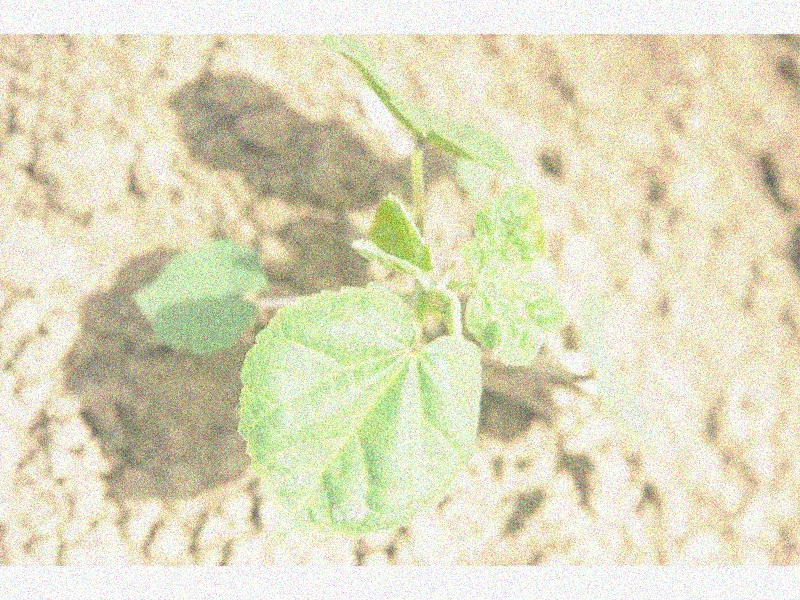velvet: (133, 38, 575, 535)
